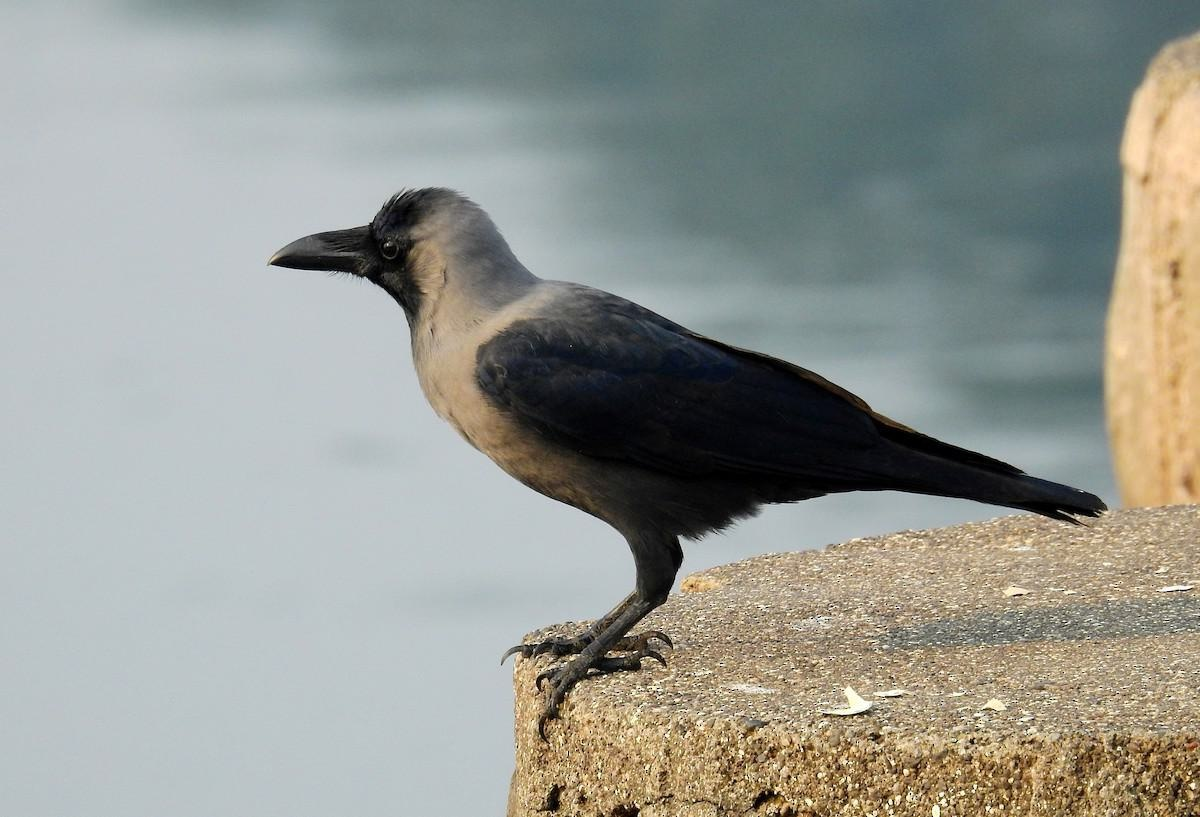crow: (268, 178, 1132, 669)
